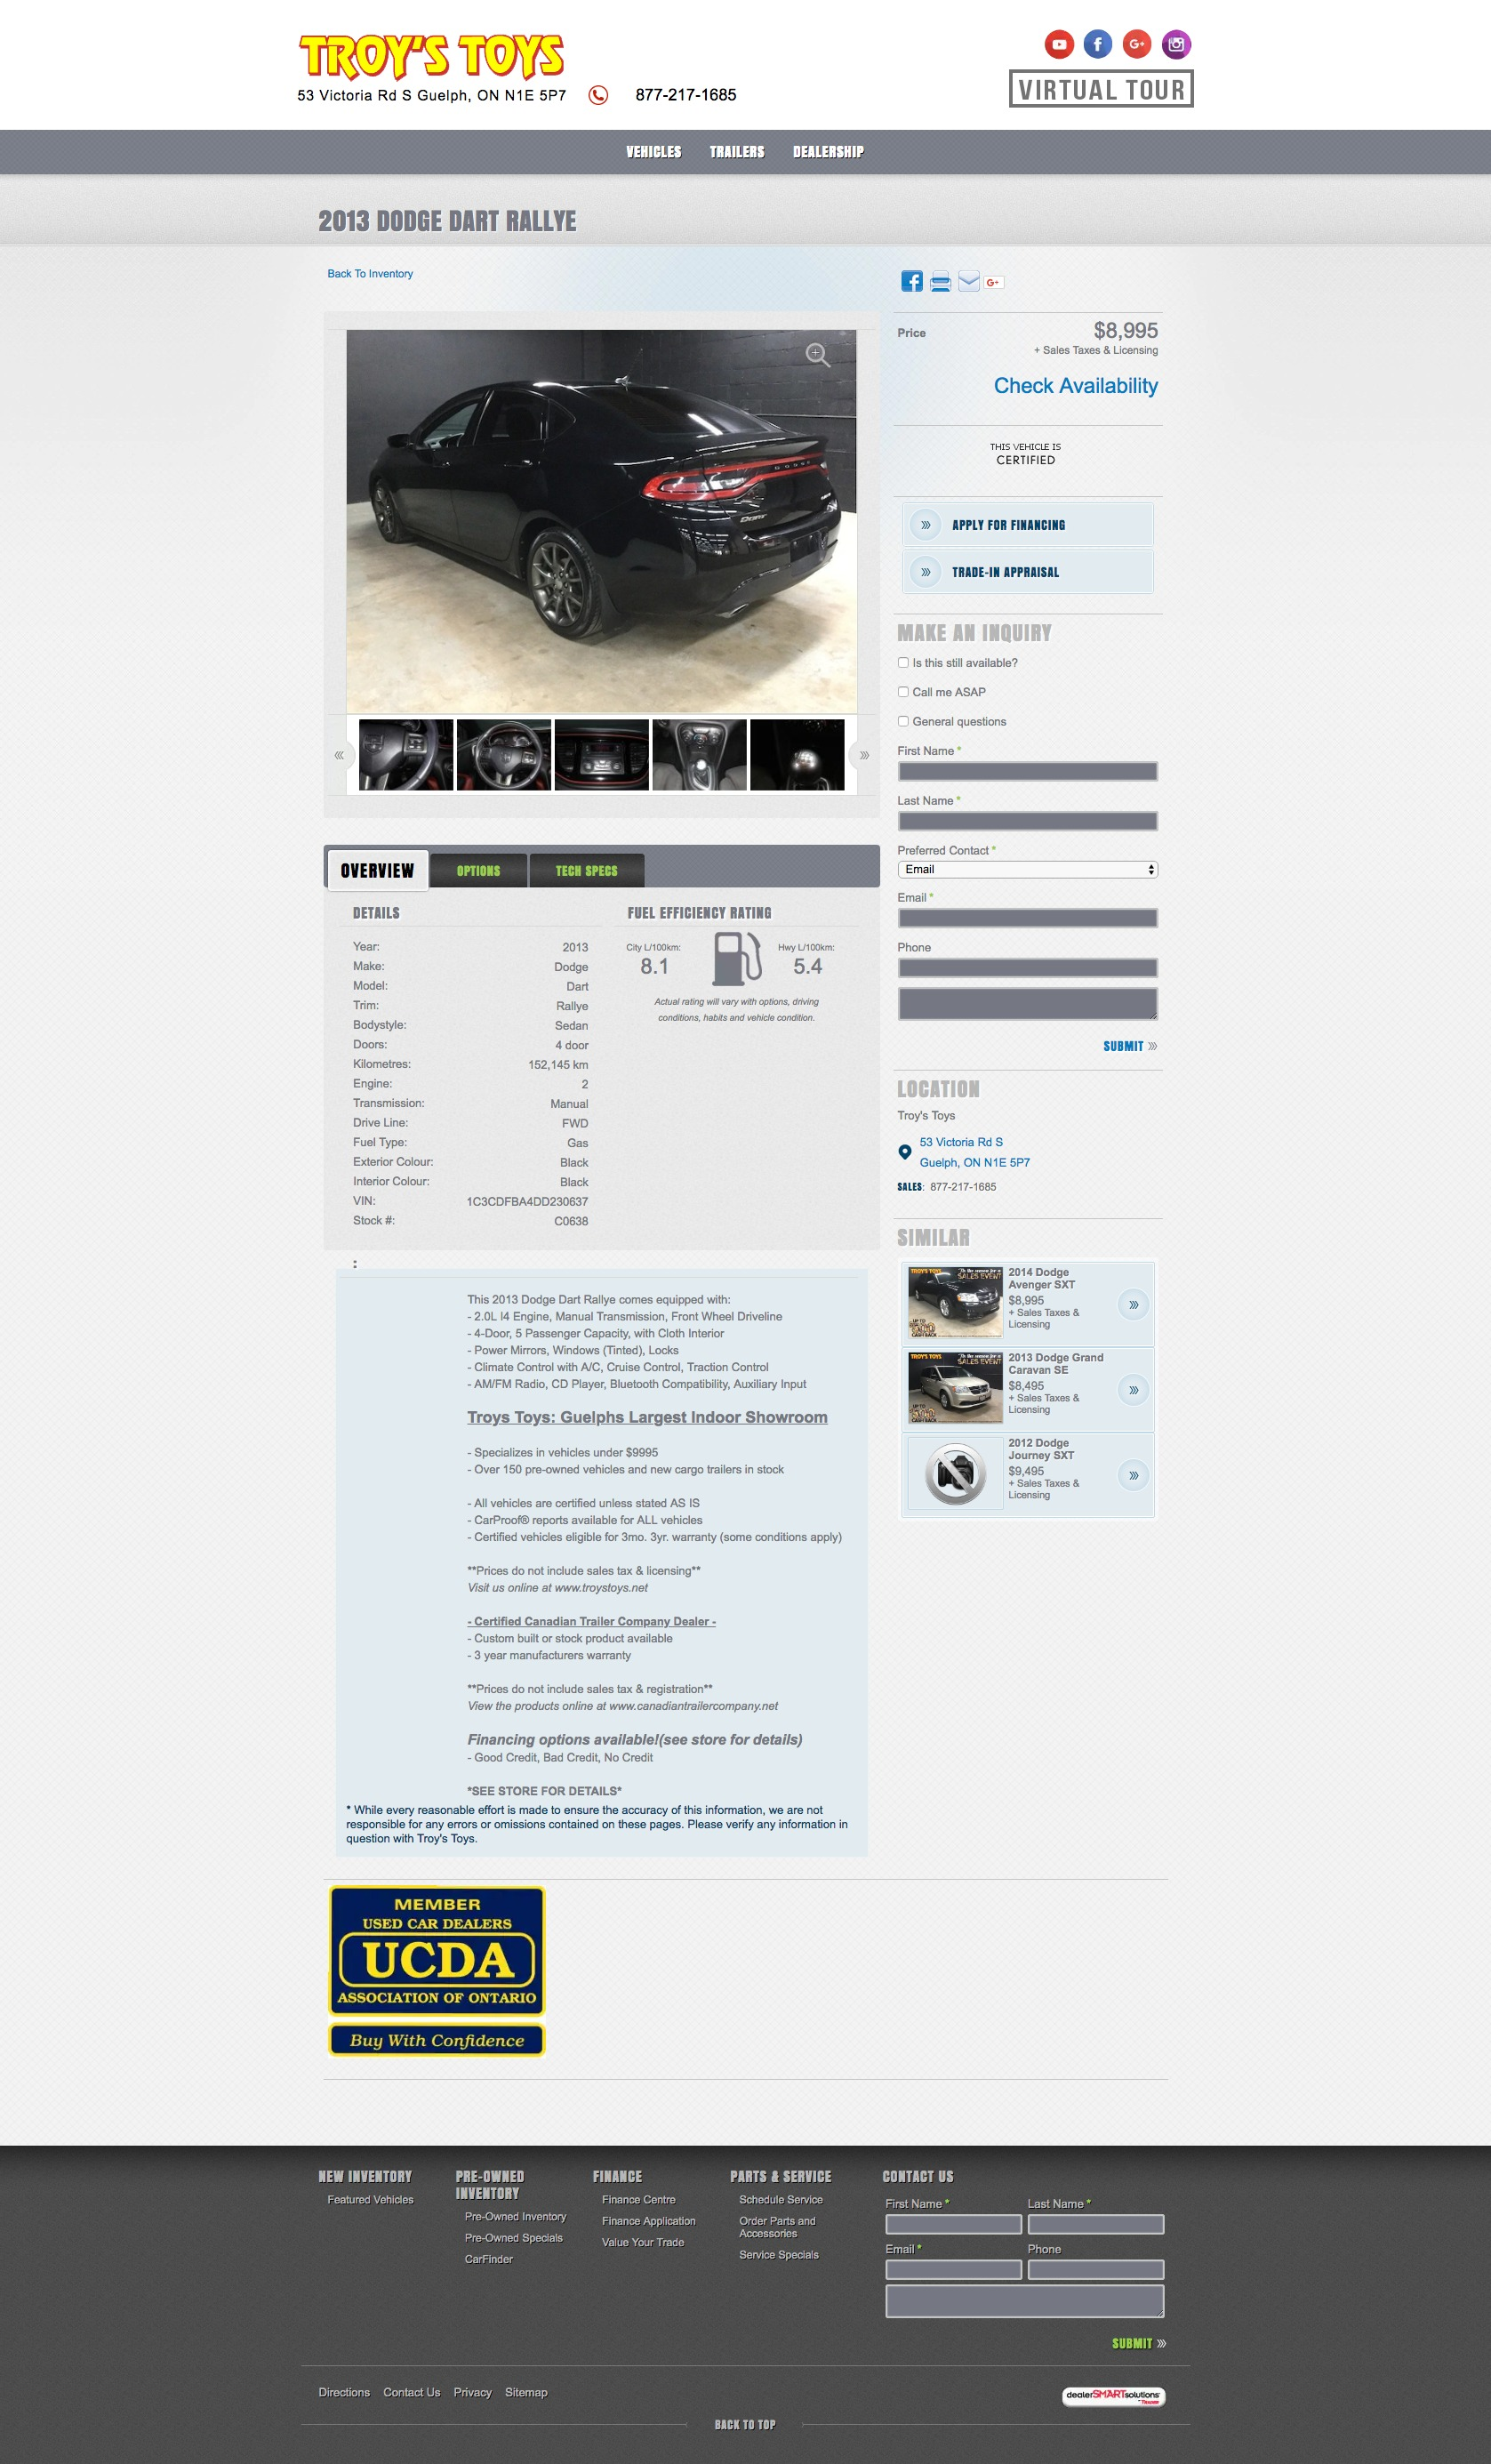car: (857, 750, 873, 764)
